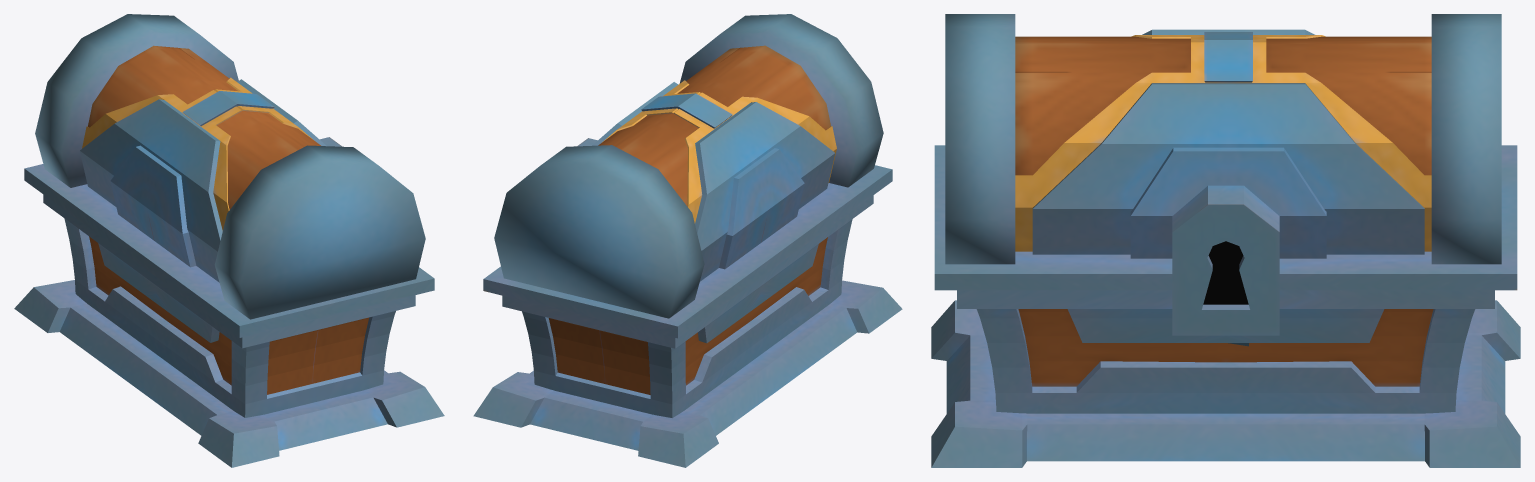
The model's file is TreasureChestLP.fbx.
3 views of the same model, side by side, from view 1: azimuth 30°, elevation 25°; view 2: azimuth 150°, elevation 25°; view 3: azimuth 270°, elevation 25° (orthographic). The views are drawn at different scales.
Parts seen in each view (by area): view 1: Plane.018; view 2: Plane.018; view 3: Plane.018.
Part boxes in pixels (x1=…): Plane.018: x1=14, y1=14, x2=444, y2=467; Plane.018: x1=473, y1=14, x2=902, y2=467; Plane.018: x1=931, y1=14, x2=1520, y2=467.
Size of the model in its own units: 203 by 249 by 359.
